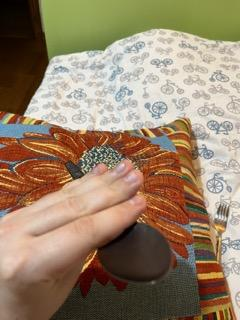spoon: (59, 158, 174, 284)
